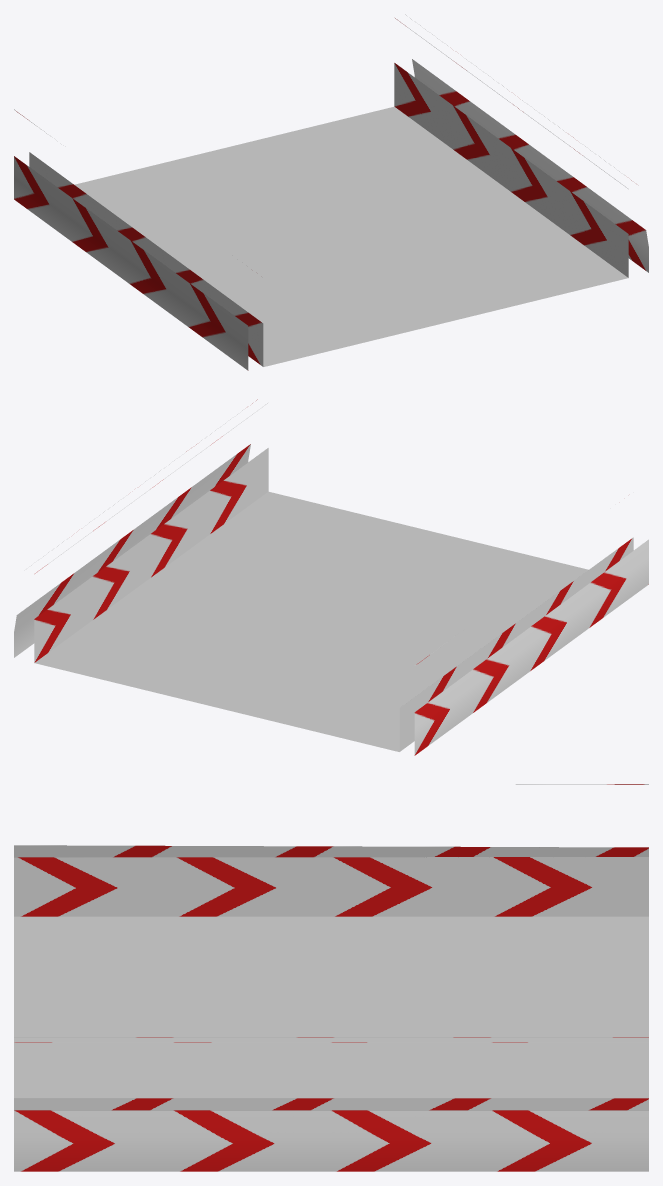
Rendered from RoadBlock_Straight_new.fbx.
3 views of the same model, one above another, from view 1: azimuth 30°, elevation 25°; view 2: azimuth 150°, elevation 25°; view 3: azimuth 270°, elevation 25° (orthographic). The views are drawn at different scales.
Parts seen in each view (by area): view 1: RoadStraight; view 2: RoadStraight; view 3: RoadStraight.
Part boxes in pixels (bbox=[...]): RoadStraight: bbox=[14, 14, 648, 370]; RoadStraight: bbox=[14, 399, 648, 755]; RoadStraight: bbox=[14, 784, 648, 1171].
Bounding box in the file's own units: 197 × 42.43 × 200.
